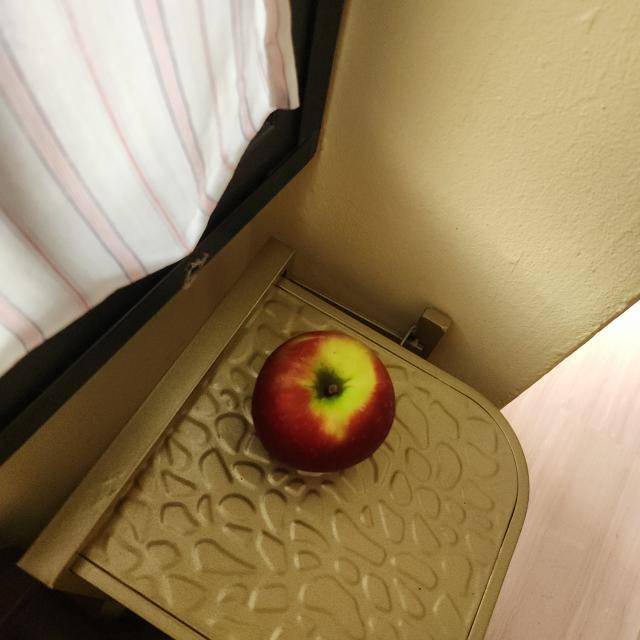apple: (242, 323, 409, 477)
